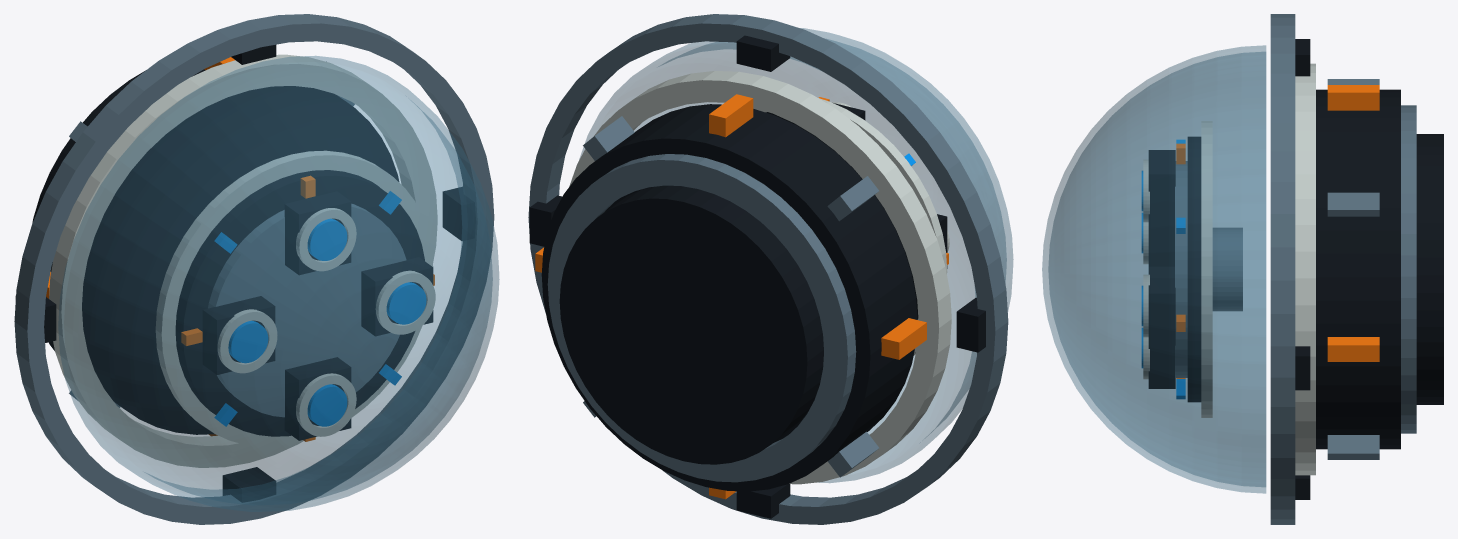
The picture shows the model from 3 angles, left to right: view 1: azimuth 30°, elevation 25°; view 2: azimuth 150°, elevation 25°; view 3: azimuth 270°, elevation 25°; orthographic projection. The views are drawn at different scales.
Visible parts, largest first — view 1: Sealed_transparent_dome, Dome_guard, Lower_housing, Shoulder_collar, Rotor_top_deck, Rotor_carrier, Rotor_guide_ring, Emitter_shroud_02, Emitter_shroud_01, Emitter_shroud_03, Emitter_shroud_00, Optic_bezel_03 (+9 smaller); view 2: Mount_foot, Lower_housing, Dome_guard, Sealed_transparent_dome, Mount_contact_ring, Shoulder_collar, Rotor_guide_ring, Dome_clamp_01, Dome_clamp_02, Housing_stripe_02, Housing_stripe_04, Dome_clamp_03 (+4 smaller); view 3: Sealed_transparent_dome, Lower_housing, Dome_guard, Shoulder_collar, Mount_foot, Mount_contact_ring, Rotor_carrier, Rotor_guide_ring, Rotor_shaft, Rotor_top_deck, Emitter_shroud_01, Emitter_shroud_00 (+8 smaller).
Boxes of the visible parts, <box> form: Sealed_transparent_dome: <box>58,56,499,511</box>; Dome_guard: <box>14,14,494,524</box>; Lower_housing: <box>32,69,399,434</box>; Shoulder_collar: <box>49,54,437,467</box>; Rotor_top_deck: <box>208,204,406,417</box>; Rotor_carrier: <box>175,170,424,436</box>; Rotor_guide_ring: <box>155,150,433,446</box>; Emitter_shroud_02: <box>202,296,275,374</box>; Emitter_shroud_01: <box>284,191,351,275</box>; Emitter_shroud_03: <box>284,357,351,440</box>; Emitter_shroud_00: <box>361,257,433,336</box>; Optic_bezel_03: <box>296,373,356,436</box>; Mount_foot: <box>559,185,823,464</box>; Lower_housing: <box>541,104,917,491</box>; Dome_guard: <box>528,14,1008,524</box>; Sealed_transparent_dome: <box>579,28,1013,482</box>; Mount_contact_ring: <box>547,154,856,482</box>; Shoulder_collar: <box>569,71,951,484</box>; Rotor_guide_ring: <box>753,98,947,355</box>; Dome_clamp_01: <box>736,35,790,71</box>; Dome_clamp_02: <box>956,297,985,352</box>; Housing_stripe_02: <box>709,94,753,137</box>; Housing_stripe_04: <box>881,318,926,359</box>; Dome_clamp_03: <box>736,484,790,518</box>; Sealed_transparent_dome: <box>1042,45,1266,493</box>; Lower_housing: <box>1316,89,1400,449</box>; Dome_guard: <box>1270,14,1295,524</box>; Shoulder_collar: <box>1295,63,1315,475</box>; Mount_foot: <box>1416,134,1443,404</box>; Mount_contact_ring: <box>1401,105,1416,433</box>; Rotor_carrier: <box>1187,136,1201,402</box>; Rotor_guide_ring: <box>1201,121,1212,417</box>; Rotor_shaft: <box>1212,227,1242,311</box>; Rotor_top_deck: <box>1175,161,1187,377</box>; Emitter_shroud_01: <box>1148,150,1175,231</box>; Emitter_shroud_00: <box>1148,266,1175,345</box>.
Bounding box in the file's own units: 0.98 × 0.98 × 0.77.
